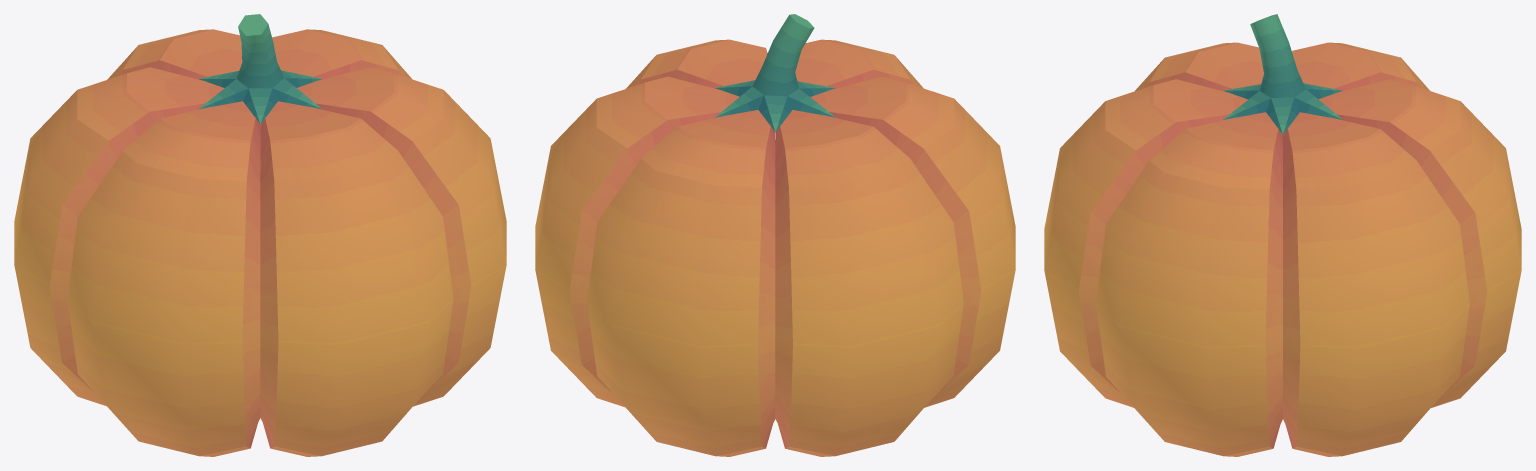
The model's file is pumpking.glb.
3 views of the same model, side by side, from view 1: azimuth 30°, elevation 25°; view 2: azimuth 150°, elevation 25°; view 3: azimuth 270°, elevation 25° (orthographic). The views are drawn at different scales.
Parts seen in each view (by area): view 1: mesh_pumpkin_01 - Default.001_0; view 2: mesh_pumpkin_01 - Default.001_0; view 3: mesh_pumpkin_01 - Default.001_0.
Boxes of the visible parts, x1,y1,x2,y2 form: mesh_pumpkin_01 - Default.001_0: (14, 14, 506, 456); mesh_pumpkin_01 - Default.001_0: (535, 14, 1015, 456); mesh_pumpkin_01 - Default.001_0: (1044, 14, 1521, 456).
Size of the model in its own units: 179 by 163 by 184.
Materials: 1 (1 with a texture image).
